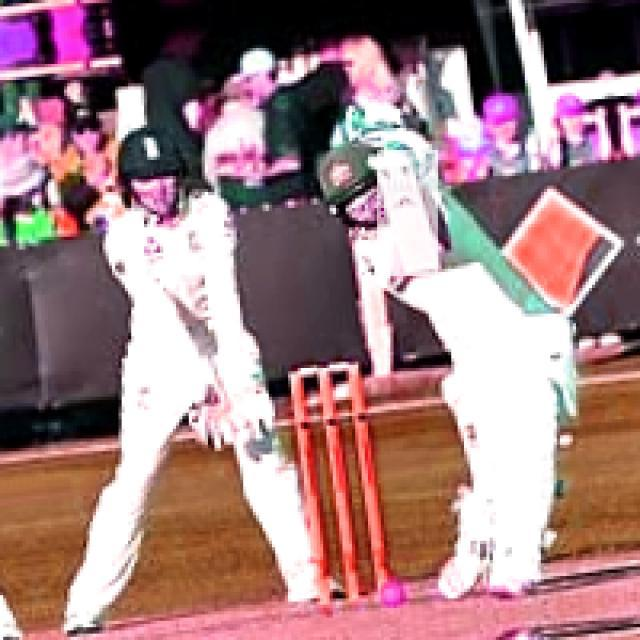bat: (375, 149, 440, 276)
toe: (412, 258, 448, 281)
